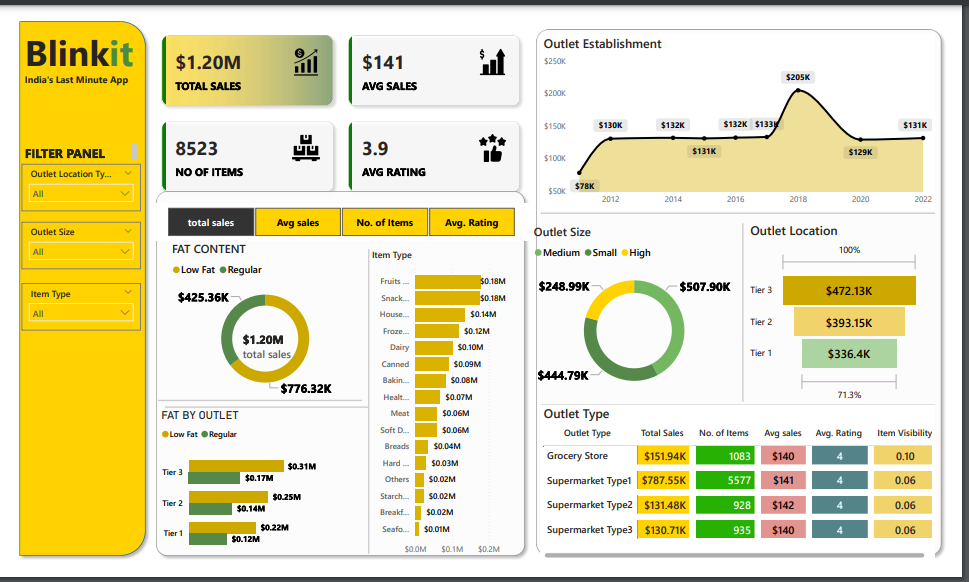

What the dashboard file says about the page in this screenshot:
{"tool":"powerbi","page":{"name":"Page 1","canvas":[1400,822],"ordinal":0},"visuals":[{"type":"shape","box":[0,1.6,205.5,820.4],"z":0},{"type":"textbox","box":[11.5,14.8,194,92.1],"z":1000},{"type":"textbox","box":[11.5,83.8,272.9,59.2],"z":2000},{"type":"cardVisual","fields":{"Data":["BlinkIT Grocery Data.total sales","BlinkIT Grocery Data.Avg sales","BlinkIT Grocery Data.No. of Items","BlinkIT Grocery Data.Avg. Rating"]},"box":[205.5,14.8,570.5,269.6],"z":3000},{"type":"shape","box":[205.5,258.1,570.5,563.9],"z":4000},{"type":"donutChart","title":"FAT CONTENT","fields":{"Y":["Sum(BlinkIT Grocery Data.Sales)"],"Category":["BlinkIT Grocery Data.Item Fat Content"]},"box":[233.4,340.3,289.3,240],"z":5000},{"type":"slicer","fields":{"Values":["Metrics.Metrics"]},"box":[205.5,284.4,570.5,55.9],"z":6000},{"type":"cardVisual","fields":{"Data":["BlinkIT Grocery Data.total sales","BlinkIT Grocery Data.total sales"]},"box":[327.2,440.6,131.5,113.4],"z":7000},{"type":"clusteredBarChart","title":"FAT BY OUTLET","fields":{"Y":["BlinkIT Grocery Data.Total Sales"],"Category":["BlinkIT Grocery Data.Outlet Location Type"],"Series":["BlinkIT Grocery Data.Item Fat Content"]},"box":[217,591.8,241.7,230.2],"z":8000},{"type":"shape","box":[217,557.3,305.8,46],"z":9000},{"type":"shape","box":[522.8,353.5,19.7,457],"z":10000},{"type":"barChart","title":"Item Type","fields":{"Y":["BlinkIT Grocery Data.Total Sales"],"Category":["BlinkIT Grocery Data.Item Type"]},"box":[532.7,351.8,228.5,470.2],"z":11000},{"type":"shape","box":[776,14.8,624.7,807.2],"z":12000},{"type":"lineChart","title":"Outlet Establishment","fields":{"Y":["BlinkIT Grocery Data.Total Sales"],"Category":["BlinkIT Grocery Data.Outlet Establishment Year"]},"box":[790.8,31.2,591.8,264.7],"z":13000},{"type":"shape","box":[227,567.3,305.8,46],"z":13001},{"type":"shape","box":[790.8,284.4,591.8,29.6],"z":13002},{"type":"donutChart","title":"Outlet Size","fields":{"Y":["BlinkIT Grocery Data.Total Sales"],"Category":["BlinkIT Grocery Data.Outlet Size"]},"box":[776,314,310.7,268],"z":13003},{"type":"shape","box":[1088.3,314,13.2,268],"z":13004},{"type":"funnel","title":"Outlet Location","fields":{"Y":["Sum(BlinkIT Grocery Data.Sales)"],"Category":["BlinkIT Grocery Data.Outlet Location Type"]},"box":[1101.5,312.4,261.4,274.5],"z":13005},{"type":"shape","box":[790.8,572.1,591.8,29.6],"z":13006},{"type":"pivotTable","title":"Outlet Type","fields":{"Values":["BlinkIT Grocery Data.Total Sales","BlinkIT Grocery Data.No. of Items","BlinkIT Grocery Data.Avg sales","BlinkIT Grocery Data.Avg. Rating","Avg(BlinkIT Grocery Data.Item Visibility)"],"Rows":["BlinkIT Grocery Data.Outlet Type"]},"box":[790.8,586.9,591.8,235.1],"z":13007},{"type":"slicer","fields":{"Values":["BlinkIT Grocery Data.Outlet Location Type"]},"box":[11.5,225.2,179.2,70.7],"z":13008},{"type":"slicer","fields":{"Values":["BlinkIT Grocery Data.Outlet Size"]},"box":[11.5,312.4,179.2,70.7],"z":13009},{"type":"slicer","fields":{"Values":["BlinkIT Grocery Data.Item Type"]},"box":[11.5,404.4,179.2,70.7],"z":13010},{"type":"textbox","box":[11.5,190.7,179.2,34.5],"z":13011}]}

Visuals, with their boxes in screenshot pixels (x1, y1, x2, y2), scaled from the page's 1400x822 canvas onto the 969x582 screenshot:
shape: 0, 1, 142, 581
textbox: 8, 10, 142, 76
textbox: 8, 59, 197, 101
cardVisual - BlinkIT Grocery Data.total sales x BlinkIT Grocery Data.Avg sales: 142, 10, 537, 201
shape: 142, 183, 537, 581
"FAT CONTENT" donutChart: 162, 241, 362, 411
slicer - Metrics.Metrics: 142, 201, 537, 241
cardVisual - BlinkIT Grocery Data.total sales x BlinkIT Grocery Data.total sales: 226, 312, 317, 392
"FAT BY OUTLET" clusteredBarChart: 150, 419, 317, 581
shape: 150, 395, 362, 427
shape: 362, 250, 375, 574
"Item Type" barChart: 369, 249, 527, 581
shape: 537, 10, 968, 581
"Outlet Establishment" lineChart: 547, 22, 957, 210
shape: 157, 402, 369, 434
shape: 547, 201, 957, 222
"Outlet Size" donutChart: 537, 222, 752, 412
shape: 753, 222, 762, 412
"Outlet Location" funnel: 762, 221, 943, 416
shape: 547, 405, 957, 426
"Outlet Type" pivotTable: 547, 416, 957, 581
slicer - BlinkIT Grocery Data.Outlet Location Type: 8, 159, 132, 210
slicer - BlinkIT Grocery Data.Outlet Size: 8, 221, 132, 271
slicer - BlinkIT Grocery Data.Item Type: 8, 286, 132, 336
textbox: 8, 135, 132, 159
